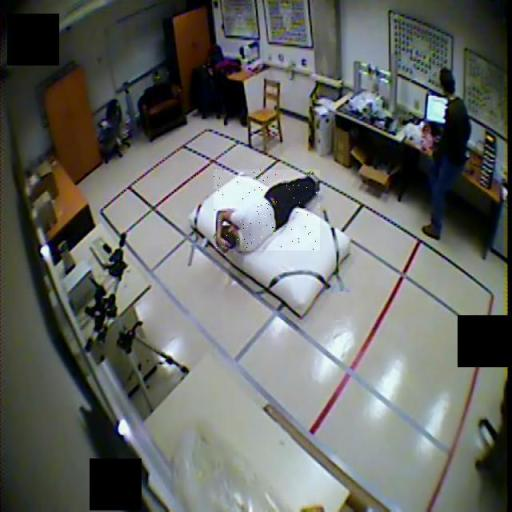Fall: (214, 170, 320, 251)
